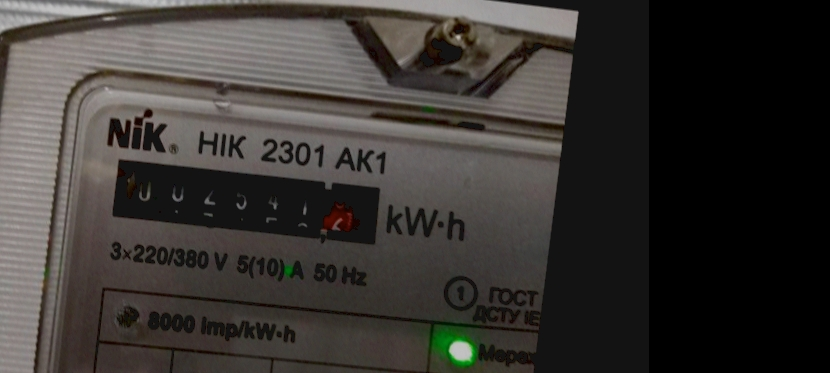0: (168, 170, 191, 205), (137, 173, 157, 203)
1: (295, 183, 315, 218)
2: (198, 173, 223, 210)
4: (264, 180, 285, 213)
5: (232, 179, 252, 213)
6: (328, 211, 347, 234)
screen: (96, 139, 405, 265)
